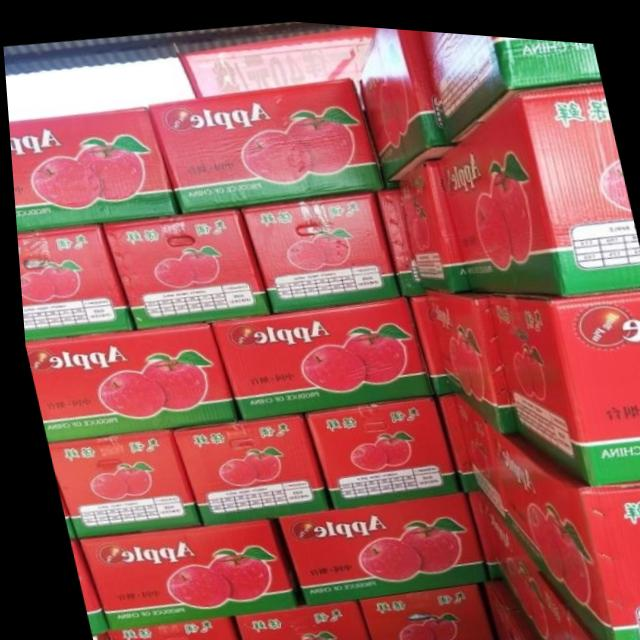box: (434, 73, 640, 289), (483, 415, 640, 636), (146, 75, 384, 211), (484, 277, 640, 479), (204, 293, 429, 417), (20, 318, 230, 442), (261, 486, 478, 603), (70, 514, 288, 627), (7, 104, 180, 233), (96, 203, 268, 328), (235, 184, 405, 309), (423, 25, 601, 138), (294, 390, 456, 506), (164, 408, 327, 522), (42, 426, 196, 540), (352, 22, 448, 182), (14, 221, 128, 341), (419, 278, 510, 426), (42, 442, 101, 634), (348, 576, 492, 640), (395, 153, 465, 283), (476, 488, 533, 607), (224, 595, 362, 640), (516, 561, 591, 640), (450, 389, 497, 514), (373, 178, 422, 293), (456, 477, 497, 576), (478, 570, 534, 640), (98, 612, 233, 640), (405, 292, 442, 391), (433, 384, 467, 485)
